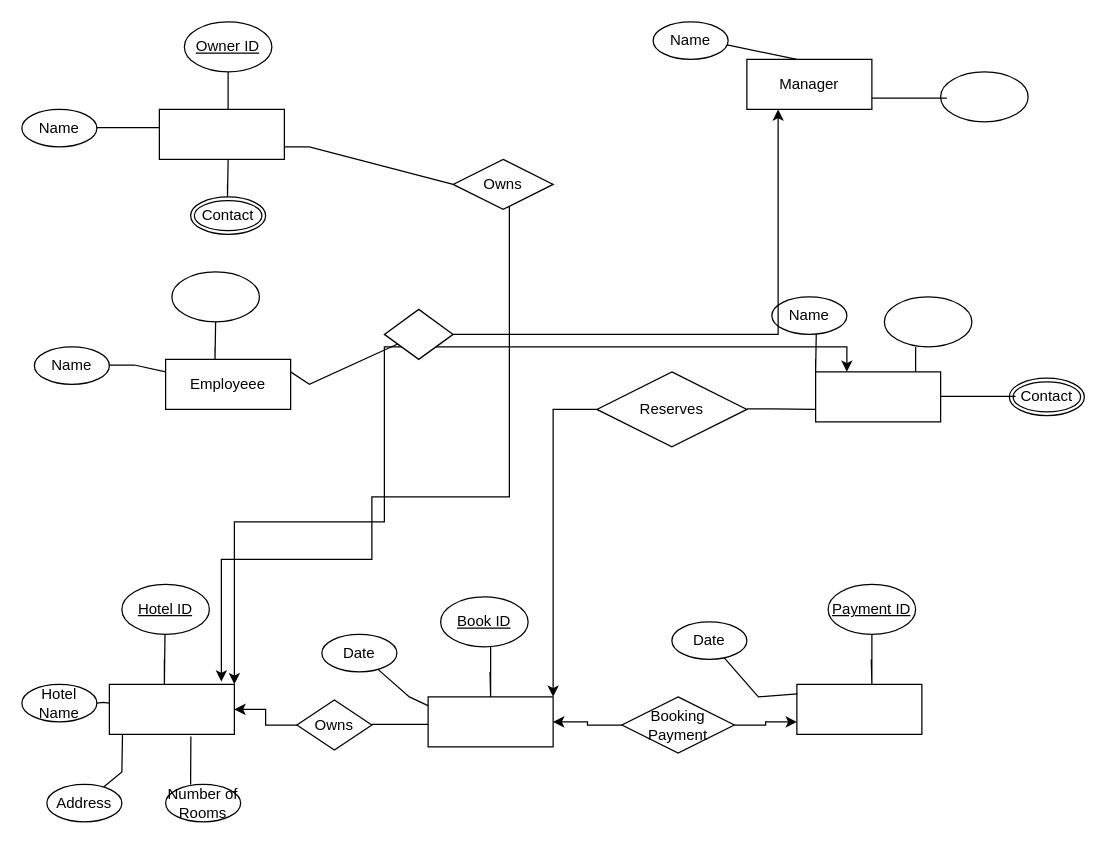
This 1106x844 diagram has some shape labels left out. The shapes that lost their labels are listed below. From the top down, each one's centre as x and y in pixels, then its label:
At (x=983, y=96): "Manager ID".
At (x=221, y=133): "Owner".
At (x=215, y=296): "Employee ID".
At (x=418, y=333): "Works For".
At (x=927, y=321): "Client ID".
At (x=877, y=396): "Client".
At (x=171, y=708): "Hotel".
At (x=490, y=721): "Book".
At (x=859, y=708): "Payment".
